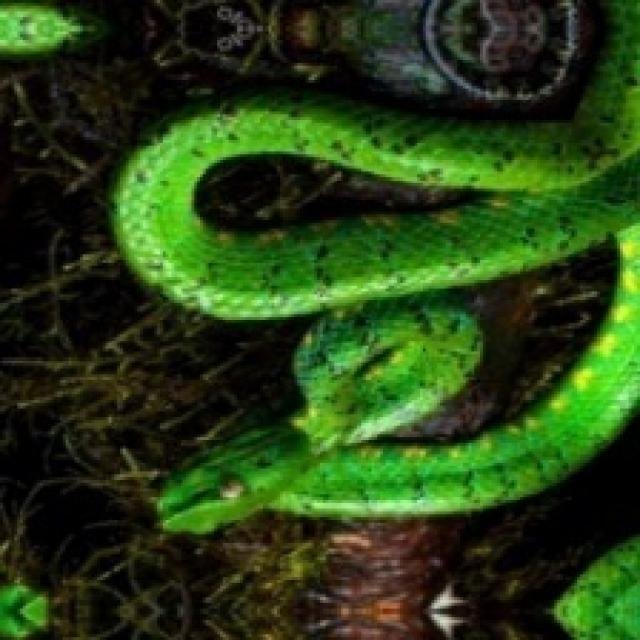philippine pitviper: (114, 8, 640, 532), (114, 0, 637, 317), (160, 254, 637, 529)
